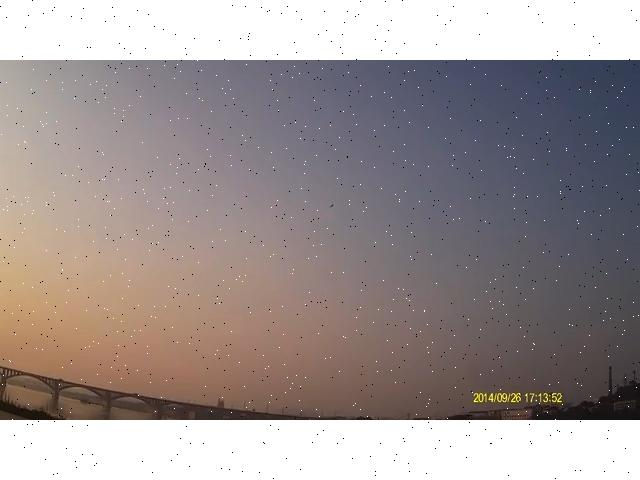Anti-Drone: (323, 199, 339, 215)
